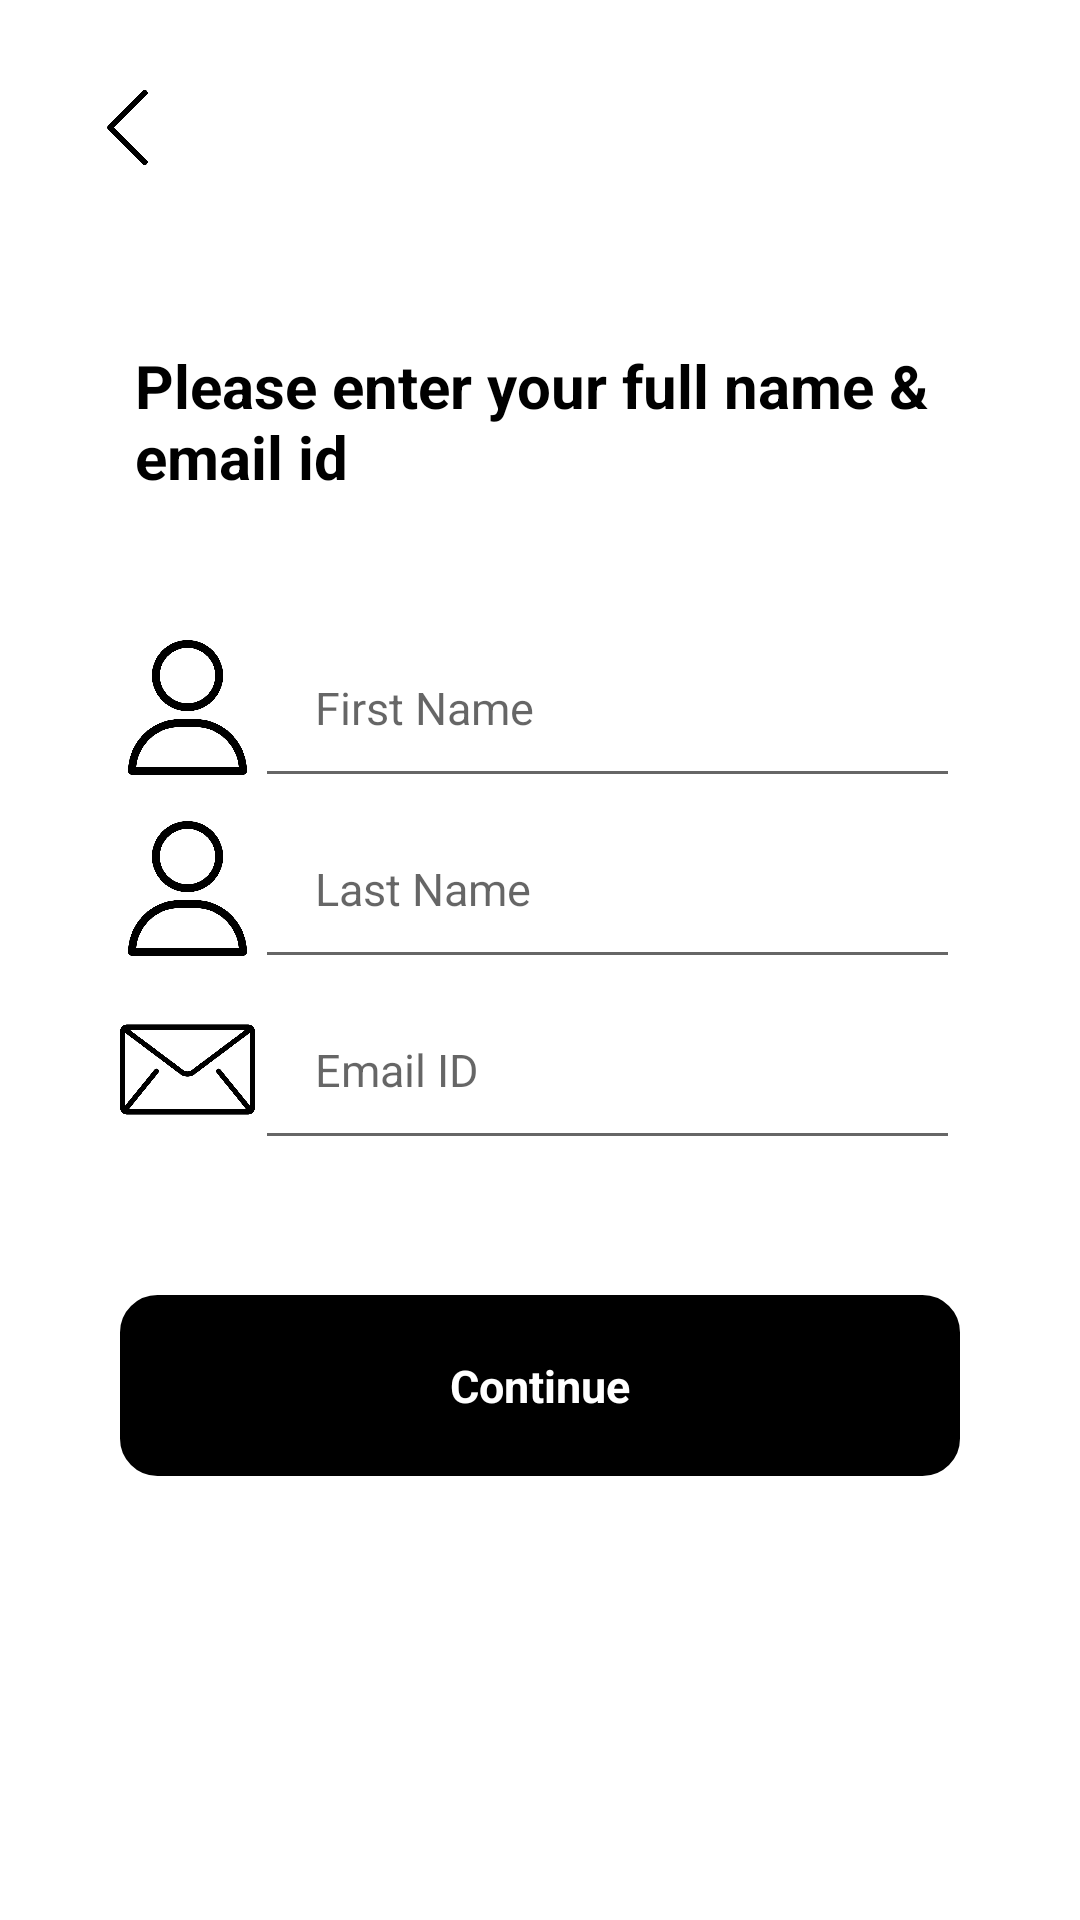

Point at icon controls on the screen. Image size 1080 x 1920, points as [x,y].
left arrow: [127,127]
user: [187,707], [187,888]
